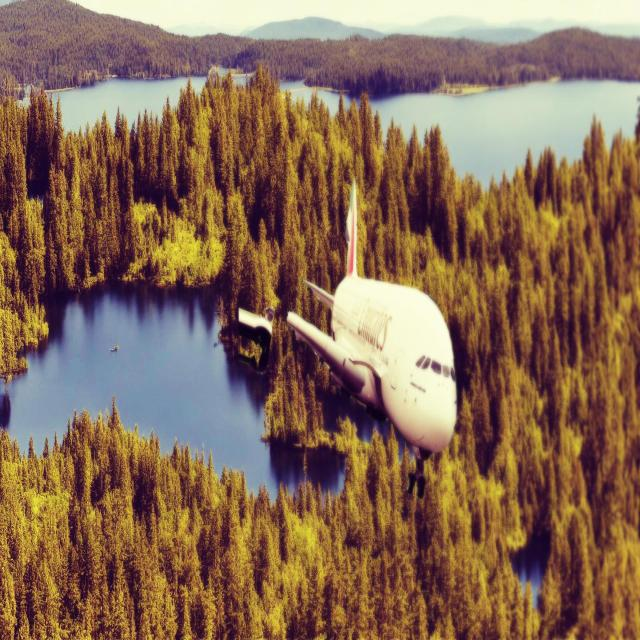airplane: (239, 178, 457, 456)
